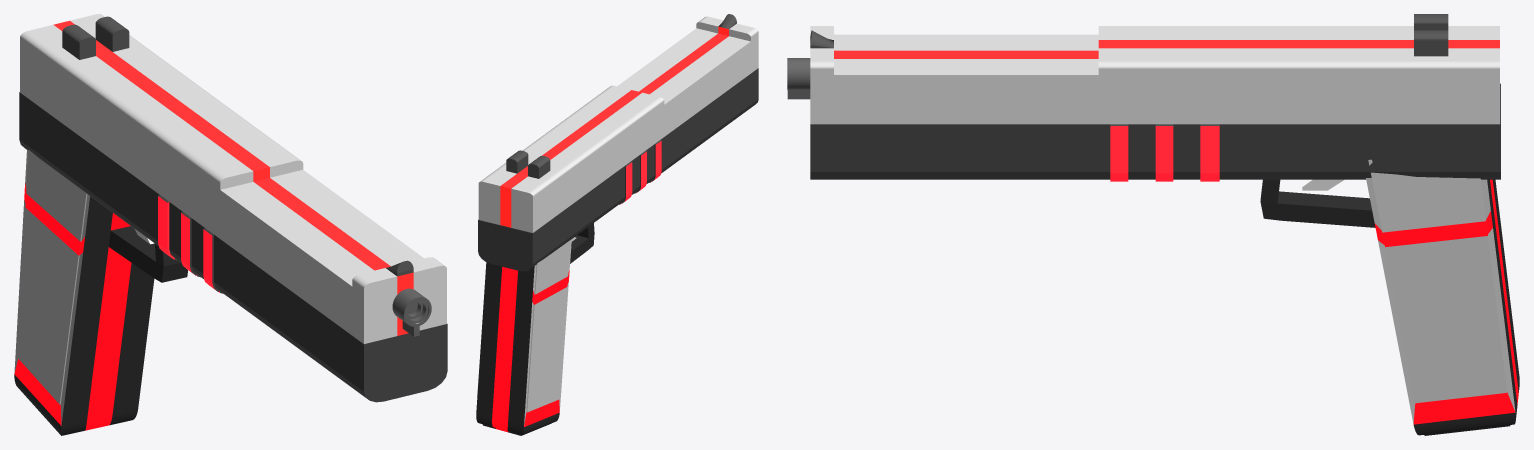
Rendered from playergun.fbx.
3 views of the same model, side by side, from view 1: azimuth 30°, elevation 25°; view 2: azimuth 150°, elevation 25°; view 3: azimuth 270°, elevation 25° (orthographic). The views are drawn at different scales.
Visible parts, largest first — view 1: Cube.002; view 2: Cube.002; view 3: Cube.002.
Part boxes in pixels (box(x1,y1,x2,y2)): Cube.002: box(14, 14, 447, 435); Cube.002: box(476, 14, 758, 435); Cube.002: box(787, 14, 1519, 435).
Bounding box in the file's own units: 27.71 × 121 × 201.
